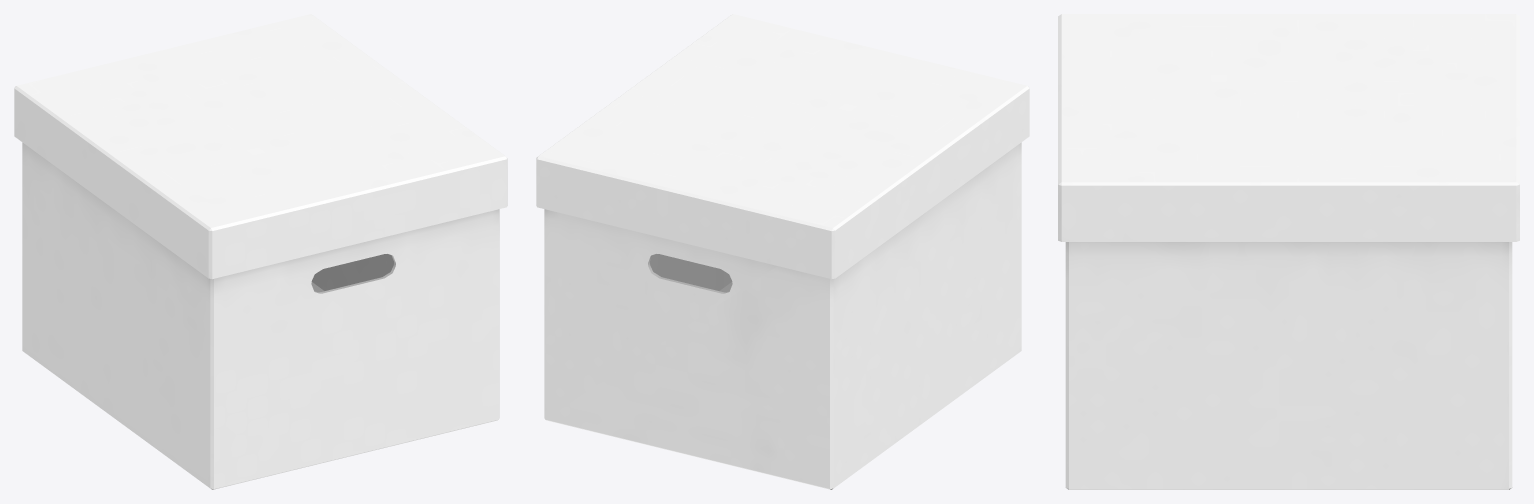
Rendered from HomeBoxShapes.glb.
The picture shows the model from 3 angles, left to right: view 1: azimuth 30°, elevation 25°; view 2: azimuth 150°, elevation 25°; view 3: azimuth 270°, elevation 25°; orthographic projection. The views are drawn at different scales.
Visible parts, largest first — view 1: HomeBoxShapes; view 2: HomeBoxShapes; view 3: HomeBoxShapes.
Part boxes in pixels (<box>): HomeBoxShapes: <box>14,14,507,489</box>; HomeBoxShapes: <box>536,14,1029,489</box>; HomeBoxShapes: <box>1058,14,1519,489</box>.
Size of the model in its own units: 0.3617 by 0.3067 by 0.4133.
1 material, 1 textured.
